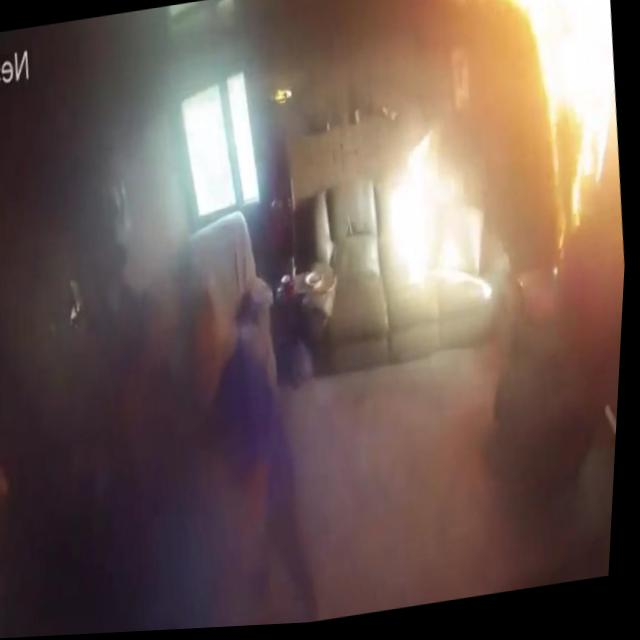fire: (450, 0, 636, 270)
